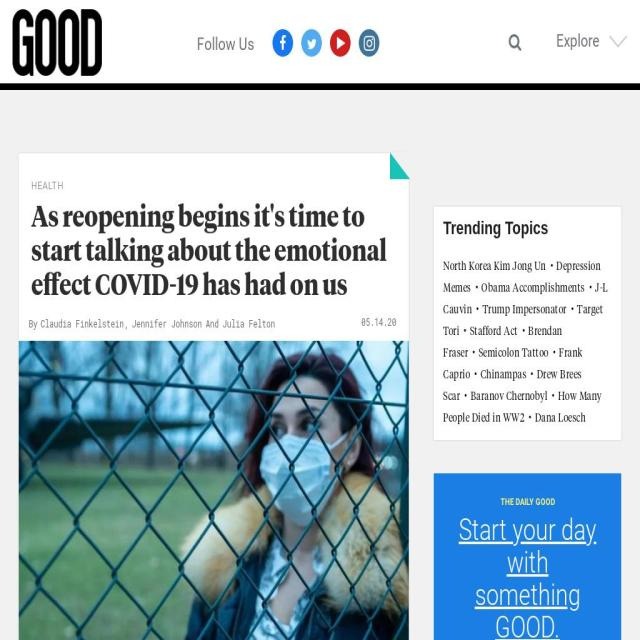button: (546, 19, 633, 70), (354, 23, 386, 62), (325, 24, 354, 62), (270, 24, 295, 60), (298, 26, 325, 59), (503, 25, 528, 60)
heading: (31, 201, 392, 302), (10, 7, 107, 78), (443, 218, 552, 243)
iframe: (433, 473, 620, 640)
image: (16, 341, 410, 640), (328, 26, 351, 56), (359, 28, 380, 57), (302, 28, 322, 57), (271, 32, 293, 55), (506, 30, 525, 54)
text: (444, 258, 610, 434), (454, 494, 599, 640), (27, 319, 278, 333), (197, 38, 256, 54), (358, 312, 399, 330), (31, 179, 63, 193)
